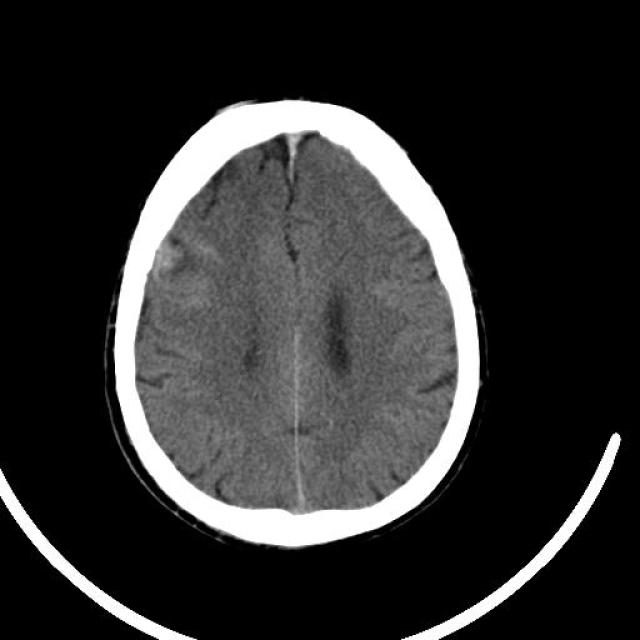Subdural: (255, 110, 327, 186)
